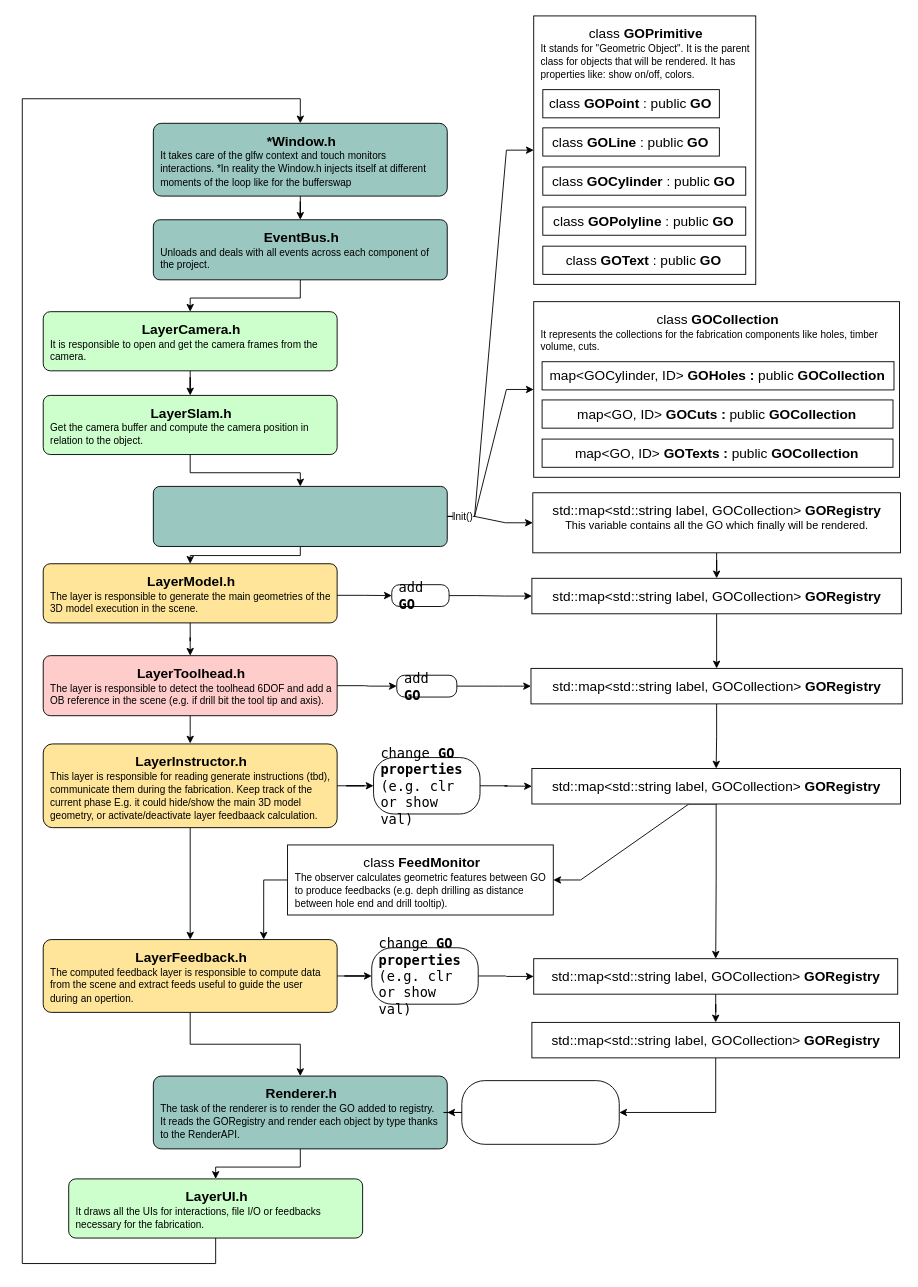
This 918x1287 diagram has some shape labels left out. Here are the shapes that lost their labels. From the top down, the centre of each, then its label:
At (299,515): "GOContext.h This component should be a sort of manager for all the GOSystem.".
At (540,1112): "DrawGeometry(GO obj) it checks the GOType and draw it with RenderAPI.".
